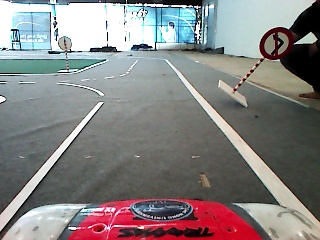ban: (256, 25, 294, 62)
